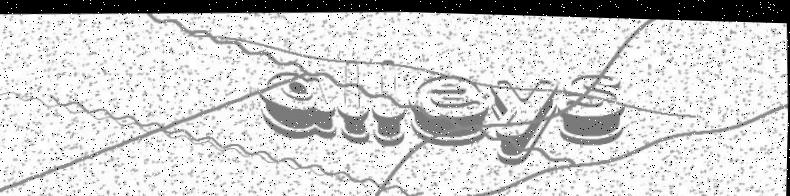a: (257, 66, 339, 141)
e: (407, 68, 491, 146)
l: (369, 55, 408, 145), (335, 57, 373, 144)
s: (555, 67, 629, 144)
y: (488, 73, 559, 165)
